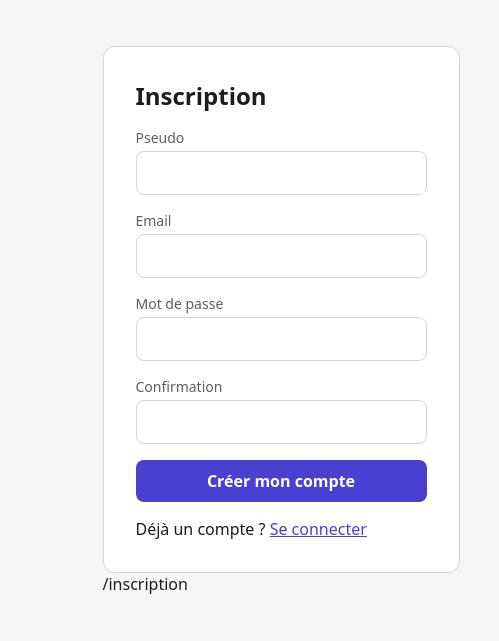
Inscription › refuse un pseudo invalide sans créer de compte
The width and height of the screenshot is (499, 641).
Type "x" into the field labelled "Pseudo" at (281, 172), box [136,150,426,194]
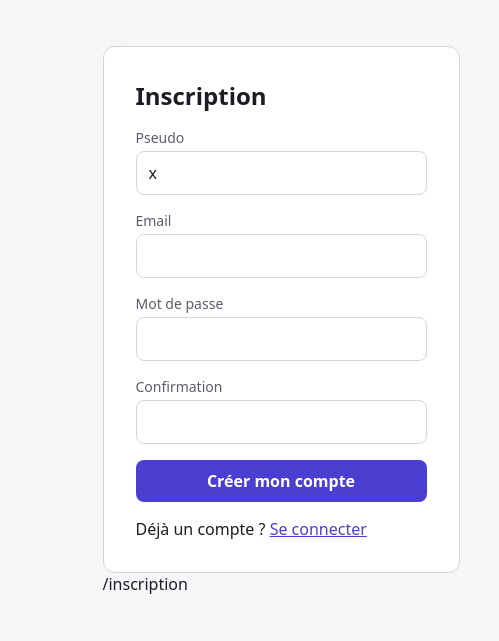
Type "theo@exemple.fr" into the field labelled "Email" at (281, 256), box [136,234,426,278]
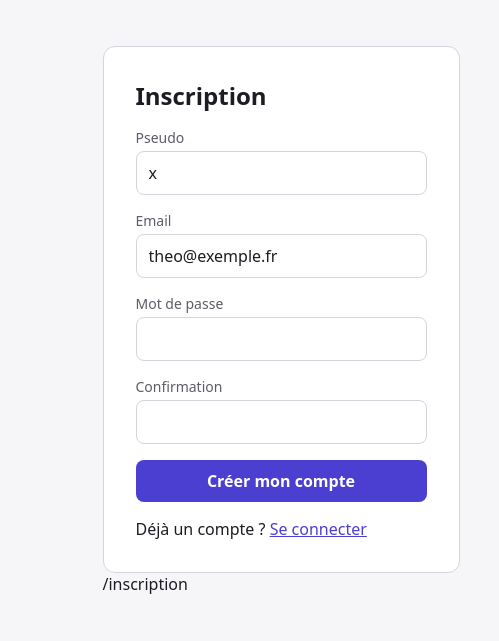
Type "motdepasse" into the password field labelled "Mot de passe" at (281, 338), box [136,316,426,360]
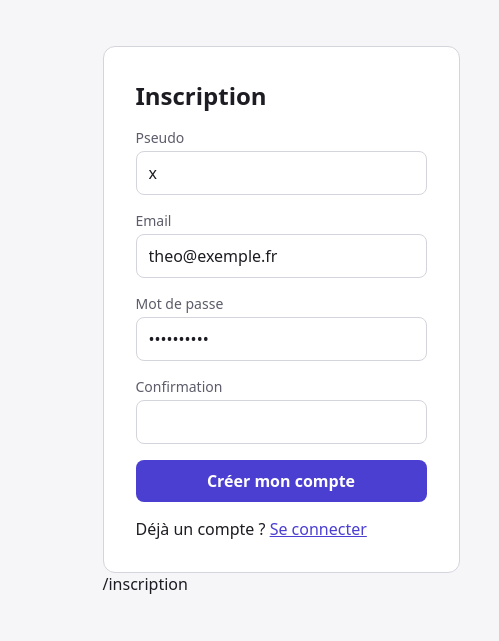
Type "motdepasse" into the password field labelled "Confirmation" at (281, 422), box [136,400,426,444]
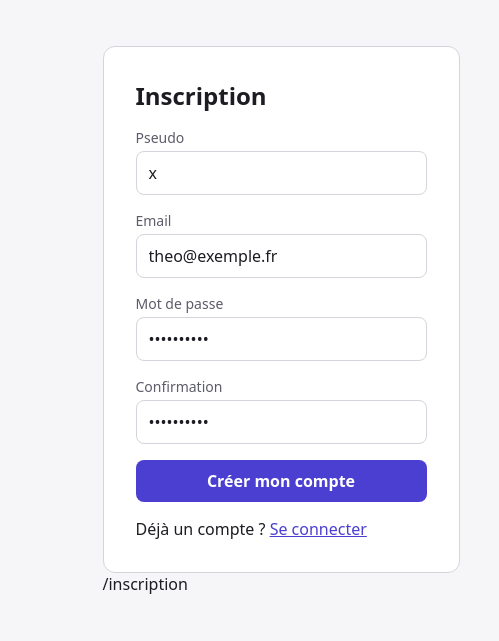
Click the button "Créer mon compte" at (281, 480), box [136,460,426,502]
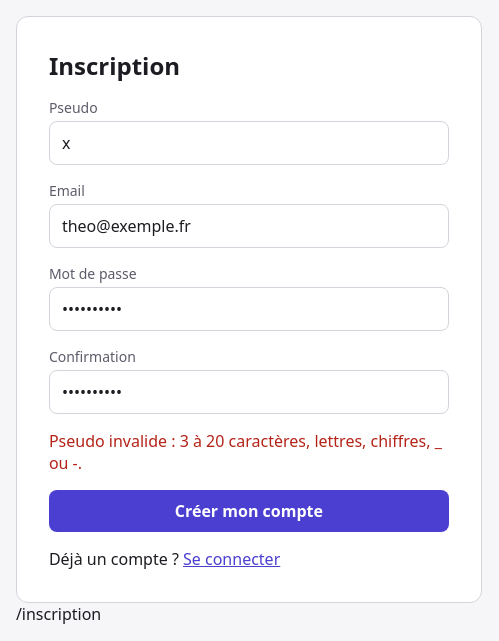
Expected: the message shows "Pseudo", [49,430,442,474]
